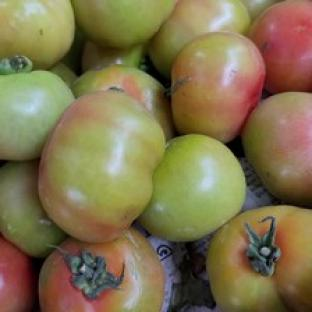Tomato: (38, 90, 165, 242), (138, 134, 246, 242), (207, 205, 311, 311), (172, 31, 266, 143), (39, 228, 165, 311), (241, 92, 311, 206), (0, 56, 75, 161), (73, 65, 175, 139), (0, 161, 66, 257), (0, 234, 37, 311), (81, 41, 146, 72), (49, 62, 77, 87)
